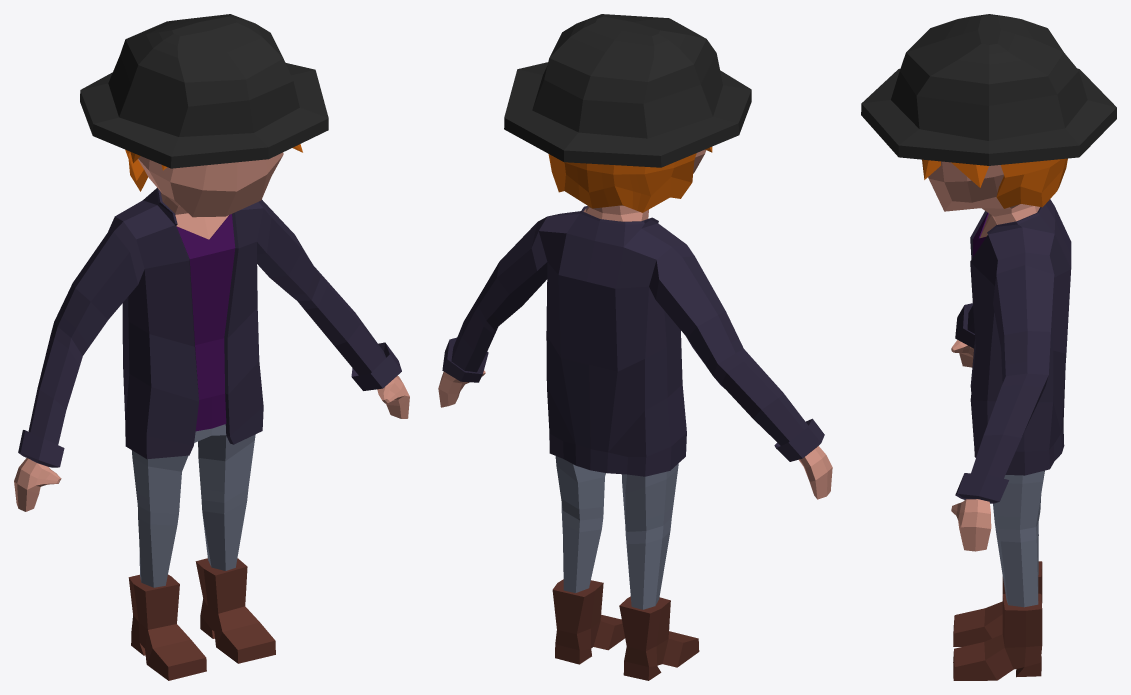
Rendered from character18.glb.
3 views of the same model, side by side, from view 1: azimuth 30°, elevation 25°; view 2: azimuth 150°, elevation 25°; view 3: azimuth 270°, elevation 25° (orthographic).
Parts seen in each view (by area): view 1: Cube, Cube.001; view 2: Cube, Cube.001, Cube.002; view 3: Cube, Cube.001, Cube.002.
Part boxes in pixels (x1=…): Cube: x1=14, y1=152, x2=409, y2=680; Cube.001: x1=80, y1=14, x2=328, y2=168; Cube: x1=438, y1=149, x2=832, y2=680; Cube.001: x1=504, y1=14, x2=751, y2=167; Cube.002: x1=548, y1=147, x2=712, y2=212; Cube: x1=928, y1=161, x2=1071, y2=680; Cube.001: x1=861, y1=14, x2=1116, y2=165; Cube.002: x1=922, y1=158, x2=1067, y2=208.
Bounding box in the file's own units: 9.64 × 14.92 × 5.54.
